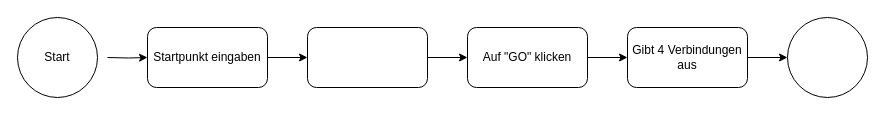
Some shapes in this 885 by 115 pixel diagram are drawn without their labels. Here are the shapes that lost their labels. From the top down, the centre of each, then its label:
At point (367, 57): "Endpunkt eingeben".
At point (827, 57): "Ende".
